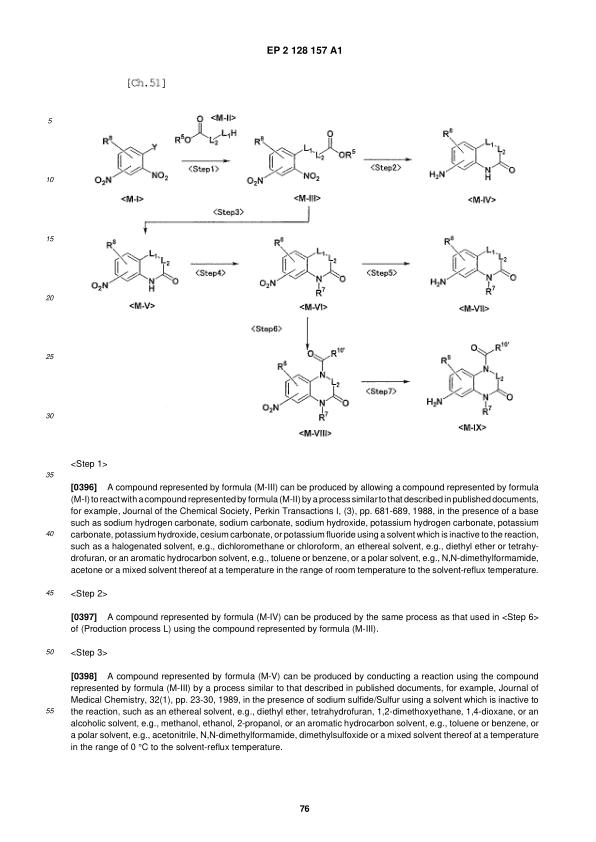compound-structure: (423, 339, 519, 434), (264, 349, 362, 441), (248, 127, 358, 204), (77, 121, 173, 207), (430, 231, 526, 316), (93, 235, 187, 318), (425, 123, 518, 204), (257, 235, 349, 315), (175, 106, 242, 149)
reaction: (67, 105, 545, 458)
reaction-arrow: (140, 196, 313, 233), (245, 317, 337, 348), (363, 371, 416, 407), (362, 250, 413, 283), (362, 150, 414, 180), (188, 255, 244, 281), (181, 153, 237, 176)
